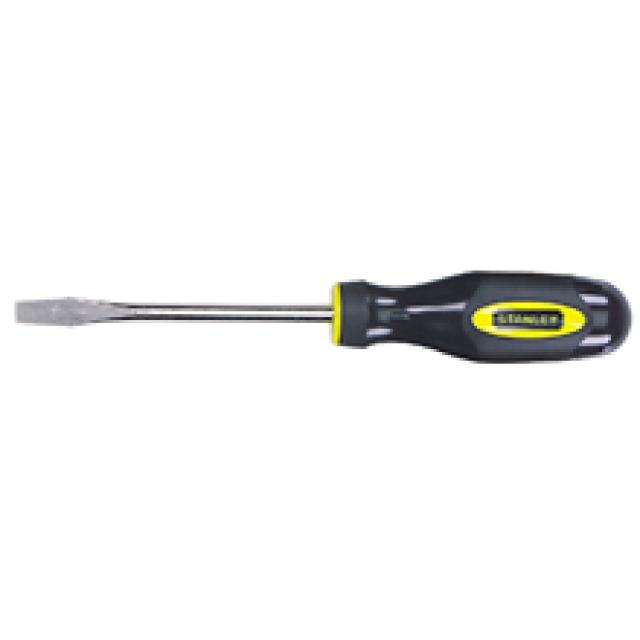Screwdriver: (15, 271, 630, 361)
